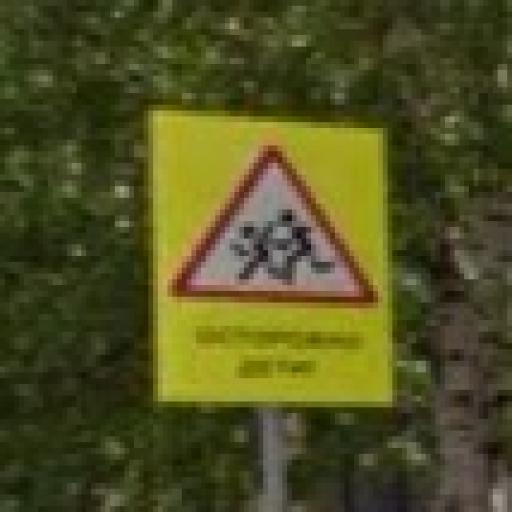traffic_sign: (168, 147, 379, 310)
